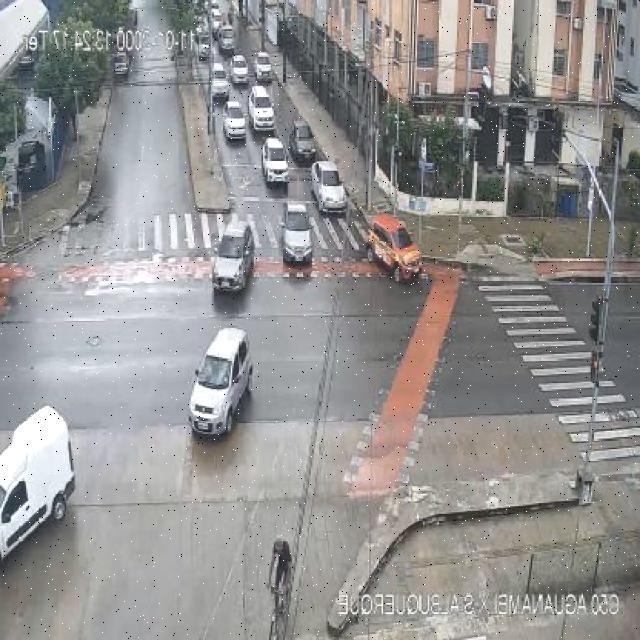Car: (188, 326, 250, 436), (364, 213, 423, 284), (211, 221, 256, 293), (280, 204, 314, 266), (311, 163, 347, 213), (261, 138, 290, 185), (288, 118, 317, 163), (248, 86, 275, 132), (222, 102, 246, 140), (210, 65, 230, 99), (253, 50, 273, 82), (230, 55, 249, 84), (217, 26, 236, 54), (112, 52, 130, 76)
Van: (0, 403, 78, 565)
